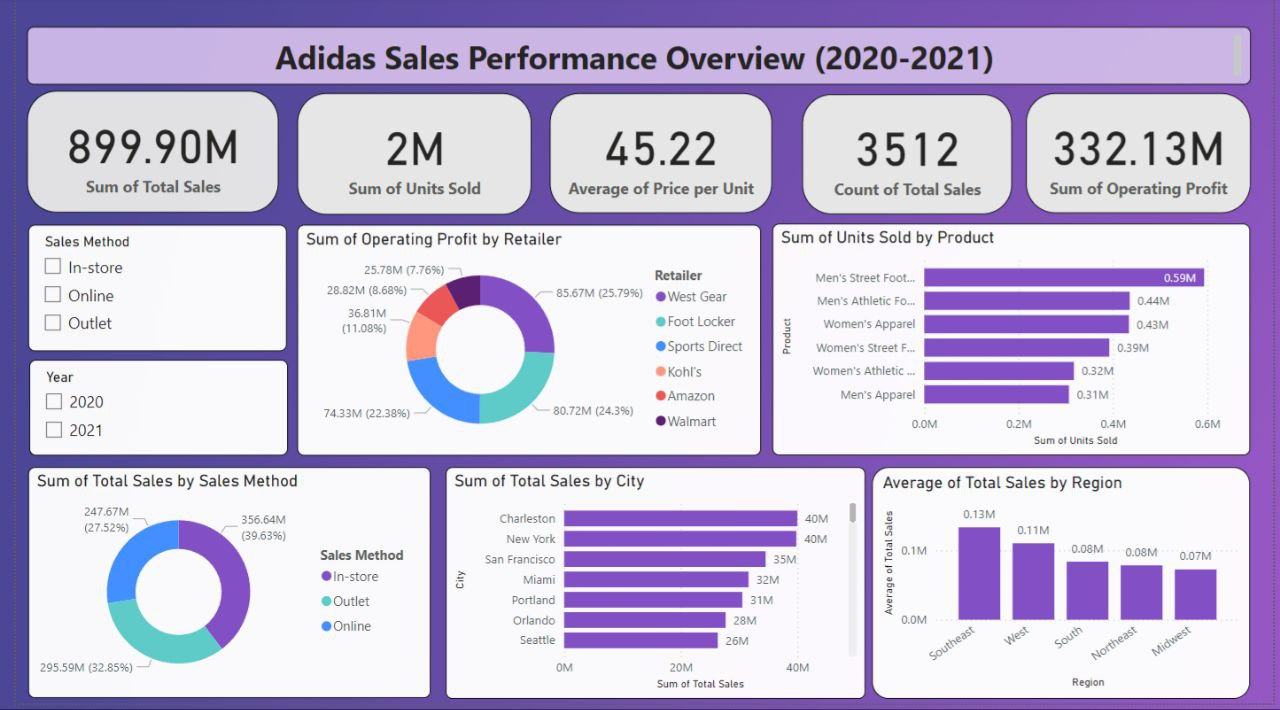

The page's visual inventory and layout, read from the dashboard file:
{"tool":"powerbi","page":{"name":"Dashboard","canvas":[1280,720],"ordinal":0},"visuals":[{"type":"card","title":"Sum of Total Sales","fields":{"Values":["Sum(Data Sales Adidas.Total Sales)"]},"box":[11.2,96.2,256.2,123.8],"z":0},{"type":"textbox","box":[11.6,30.2,1245.4,59.3],"z":1000},{"type":"card","title":"Sum of Units Sold","fields":{"Values":["Sum(Data Sales Adidas.Units Sold)"]},"box":[286.2,97.5,238.8,123.8],"z":2000},{"type":"card","title":"Sum of Units Sold","fields":{"Values":["Avg(Data Sales Adidas.Price per Unit)"]},"box":[543.8,97.5,226.2,122.5],"z":3000},{"type":"card","title":"Sum of Units Sold","fields":{"Values":["Count(Data Sales Adidas.Total Sales)"]},"box":[800,98.8,213.8,122.5],"z":4000},{"type":"card","title":"Sum of Units Sold","fields":{"Values":["Sum(Data Sales Adidas.Operating Profit)"]},"box":[1027.5,97.5,228.8,122.5],"z":5000},{"type":"donutChart","fields":{"Y":["Sum(Data Sales Adidas.Operating Profit)"],"Category":["Data Sales Adidas.Retailer"]},"box":[285.8,231.7,471.9,235.3],"z":6000},{"type":"barChart","fields":{"Category":["Data Sales Adidas.Product"],"Y":["Sum(Data Sales Adidas.Units Sold)"]},"box":[770,231.2,486.2,236.2],"z":7000},{"type":"donutChart","fields":{"Category":["Data Sales Adidas.Sales Method"],"Y":["Sum(Data Sales Adidas.Total Sales)"]},"box":[12,479.1,409.5,235.3],"z":8000},{"type":"slicer","fields":{"Values":["Data Sales Adidas.Sales Method"]},"box":[12,231.7,263,128.5],"z":9000},{"type":"slicer","fields":{"Values":["Data Sales Adidas.Invoice Date.Variation.Date Hierarchy.Year"]},"box":[13.2,369.8,263,97.3],"z":10000},{"type":"barChart","fields":{"Category":["Data Sales Adidas.City"],"Y":["Sum(Data Sales Adidas.Total Sales)"]},"box":[437.5,478.8,427.5,236.2],"z":11000},{"type":"columnChart","fields":{"Y":["Avg(Data Sales Adidas.Total Sales)"],"Category":["Data Sales Adidas.Region"]},"box":[871,479,385,236],"z":12000}]}

Visuals, with their boxes in screenshot pixels (x1, y1, x2, y2), scaled from the page's 1280x720 canvas onto the 1280x710 screenshot:
"Sum of Total Sales" card: [x1=11, y1=95, x2=267, y2=217]
textbox: [x1=12, y1=30, x2=1257, y2=88]
"Sum of Units Sold" card: [x1=286, y1=96, x2=525, y2=218]
"Sum of Units Sold" card: [x1=544, y1=96, x2=770, y2=217]
"Sum of Units Sold" card: [x1=800, y1=97, x2=1014, y2=218]
"Sum of Units Sold" card: [x1=1028, y1=96, x2=1256, y2=217]
donutChart - Sum(Data Sales Adidas.Operating Profit) x Data Sales Adidas.Retailer: [x1=286, y1=228, x2=758, y2=461]
barChart - Data Sales Adidas.Product x Sum(Data Sales Adidas.Units Sold): [x1=770, y1=228, x2=1256, y2=461]
donutChart - Data Sales Adidas.Sales Method x Sum(Data Sales Adidas.Total Sales): [x1=12, y1=472, x2=422, y2=704]
slicer - Data Sales Adidas.Sales Method: [x1=12, y1=228, x2=275, y2=355]
slicer - Data Sales Adidas.Invoice Date.Variation.Date Hierarchy.Year: [x1=13, y1=365, x2=276, y2=461]
barChart - Data Sales Adidas.City x Sum(Data Sales Adidas.Total Sales): [x1=438, y1=472, x2=865, y2=705]
columnChart - Avg(Data Sales Adidas.Total Sales) x Data Sales Adidas.Region: [x1=871, y1=472, x2=1256, y2=705]
